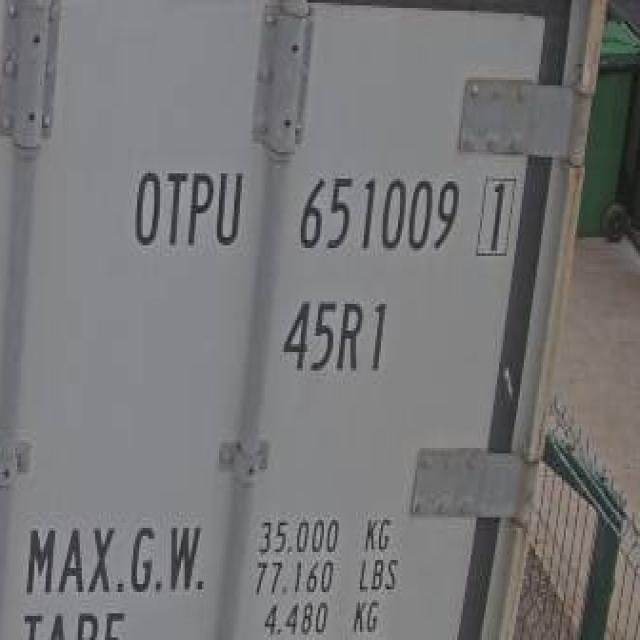dv: (472, 168, 518, 260)
owner: (128, 161, 248, 258)
serial: (297, 170, 459, 263)
size: (281, 285, 394, 378)
